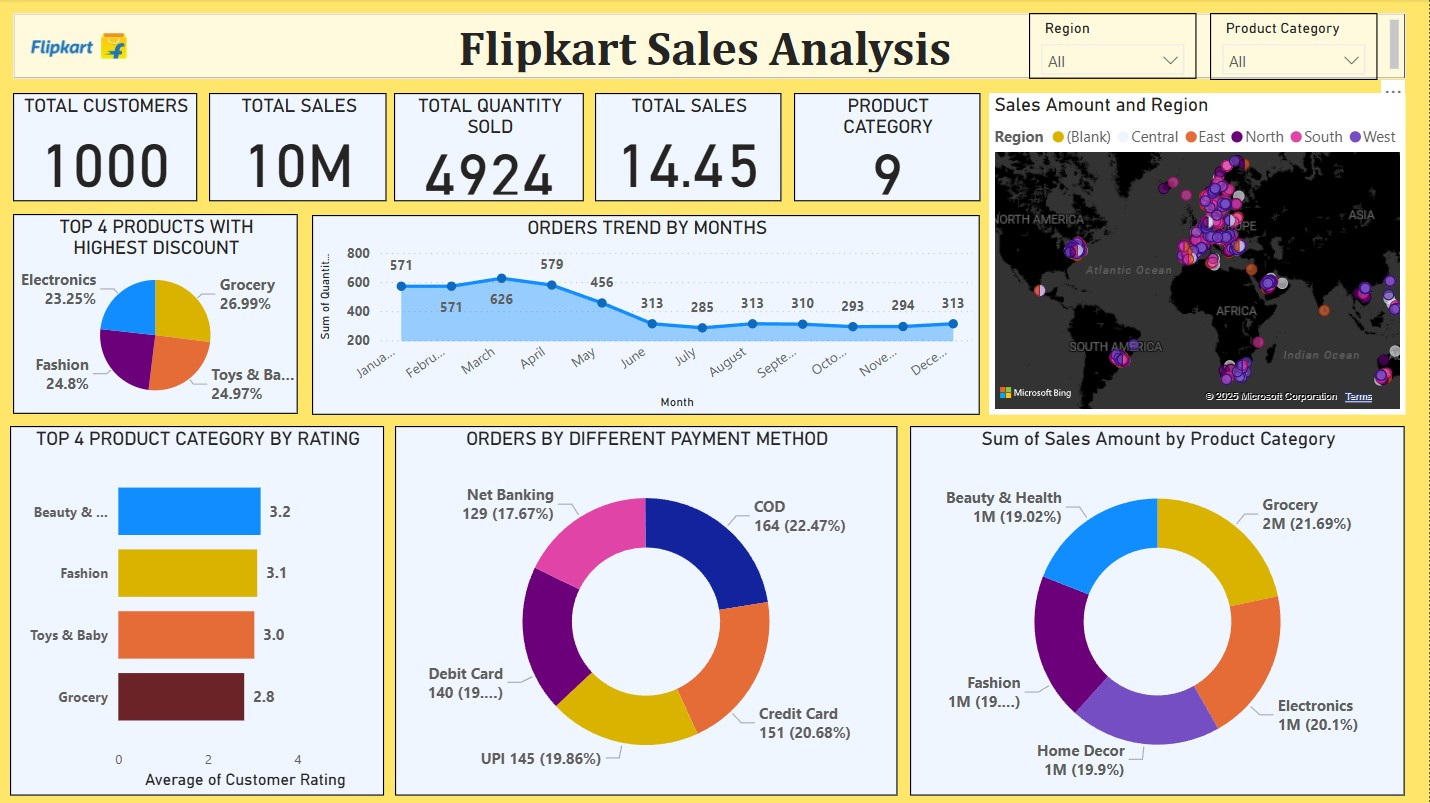

This screenshot's page, from the dashboard's own definition file:
{"tool":"powerbi","page":{"name":"Page 1","canvas":[1280,720],"ordinal":0},"visuals":[{"type":"textbox","box":[12.6,12.6,1246.9,59.3],"z":0},{"type":"image","box":[0,0,142.4,84.2],"z":1000},{"type":"card","title":"TOTAL CUSTOMERS","fields":{"Values":["Count(Table2.Order ID)"]},"box":[12.5,84.2,164.8,96.7],"z":2000},{"type":"card","title":"TOTAL SALES","fields":{"Values":["Sum(Table2.Sales Amount)"]},"box":[188.1,84.2,159.4,96.7],"z":3000},{"type":"card","title":"TOTAL QUANTITY SOLD","fields":{"Values":["Sum(Table2.Quantity Sold)"]},"box":[353.7,84.2,170.1,96.7],"z":4000},{"type":"card","title":"TOTAL SALES","fields":{"Values":["Avg(Table2.Discount (%))"]},"box":[533.7,84.2,166.6,96.7],"z":5000},{"type":"map","fields":{"Category":["Table2.Sales Amount"],"Series":["Table2.Region"]},"box":[886.6,84.2,372.5,288.4],"z":6000},{"type":"donutChart","fields":{"Category":["Table2.Product Category"],"Y":["Sum(Table2.Sales Amount)"]},"box":[815.8,382.4,443.3,331.3],"z":7000},{"type":"areaChart","title":"ORDERS TREND BY MONTHS","fields":{"Y":["Sum(Table2.Quantity Sold)"],"Category":["Table2.Order Date.Variation.Date Hierarchy.Month"]},"box":[280.3,193.4,598.2,179.1],"z":8000},{"type":"card","title":"PRODUCT CATEGORY","fields":{"Values":["Count(Table2.Product Category)"]},"box":[711.9,84.2,166.6,96.7],"z":8001},{"type":"donutChart","title":"ORDERS BY DIFFERENT PAYMENT METHOD","fields":{"Category":["Table2.Payment Method"],"Y":["Count(Table2.Order ID)"]},"box":[354.6,382.4,449.6,331.3],"z":8002},{"type":"barChart","title":"TOP 4 PRODUCT CATEGORY BY RATING","fields":{"Category":["Table2.Product Category"],"Y":["Avg(Table2.Customer Rating)"]},"box":[9.7,382.2,334.6,330.7],"z":8003},{"type":"pieChart","title":"TOP 4 PRODUCTS WITH HIGHEST DISCOUNT","fields":{"Category":["Table2.Product Category"],"Y":["Sum(Table2.Discount (%))"]},"box":[12.6,192.6,254.8,179],"z":8004},{"type":"slicer","fields":{"Values":["Table2.Region"]},"box":[922.4,12.5,150.4,59.1],"z":8005},{"type":"slicer","fields":{"Values":["Table2.Product Category"]},"box":[1084.5,12.5,150.4,60],"z":8006}]}

Visuals, with their boxes in screenshot pixels (x1, y1, x2, y2), scaled from the page's 1280x720 canvas onto the 1430x803 screenshot:
textbox: rect(14, 14, 1407, 80)
image: rect(0, 0, 159, 94)
"TOTAL CUSTOMERS" card: rect(14, 94, 198, 202)
"TOTAL SALES" card: rect(210, 94, 388, 202)
"TOTAL QUANTITY SOLD" card: rect(395, 94, 585, 202)
"TOTAL SALES" card: rect(596, 94, 782, 202)
map - Table2.Sales Amount x Table2.Region: rect(990, 94, 1407, 416)
donutChart - Table2.Product Category x Sum(Table2.Sales Amount): rect(911, 426, 1407, 796)
"ORDERS TREND BY MONTHS" areaChart: rect(313, 216, 981, 415)
"PRODUCT CATEGORY" card: rect(795, 94, 981, 202)
"ORDERS BY DIFFERENT PAYMENT METHOD" donutChart: rect(396, 426, 898, 796)
"TOP 4 PRODUCT CATEGORY BY RATING" barChart: rect(11, 426, 385, 795)
"TOP 4 PRODUCTS WITH HIGHEST DISCOUNT" pieChart: rect(14, 215, 299, 414)
slicer - Table2.Region: rect(1030, 14, 1199, 80)
slicer - Table2.Product Category: rect(1212, 14, 1380, 81)
